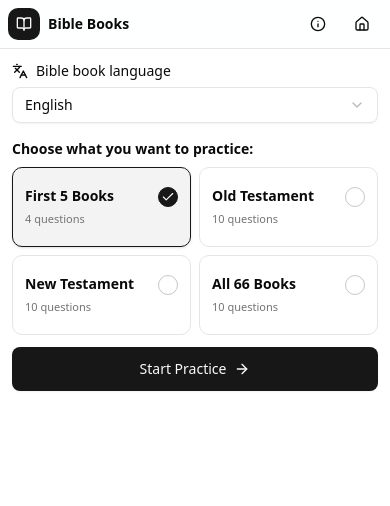
BibleBooksGame › identifies both the correct answer and an incorrect selection
Click the button "Start Practice": (195,369) [12, 347, 378, 391]
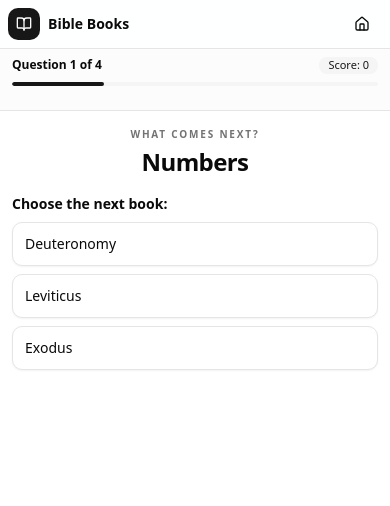
Expected: the button "Leviticus" is shown
Click the button "Leviticus": (53,295) [12, 274, 378, 318]
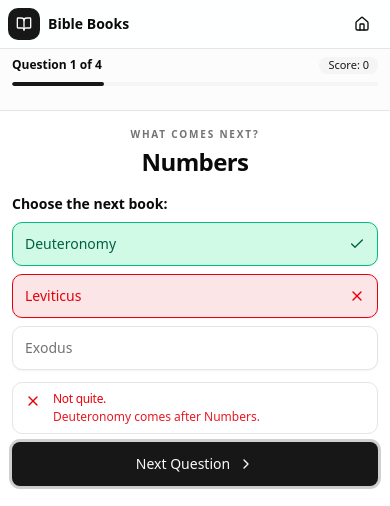
Expected: the text "Not quite." is shown, [53, 390, 106, 407]
